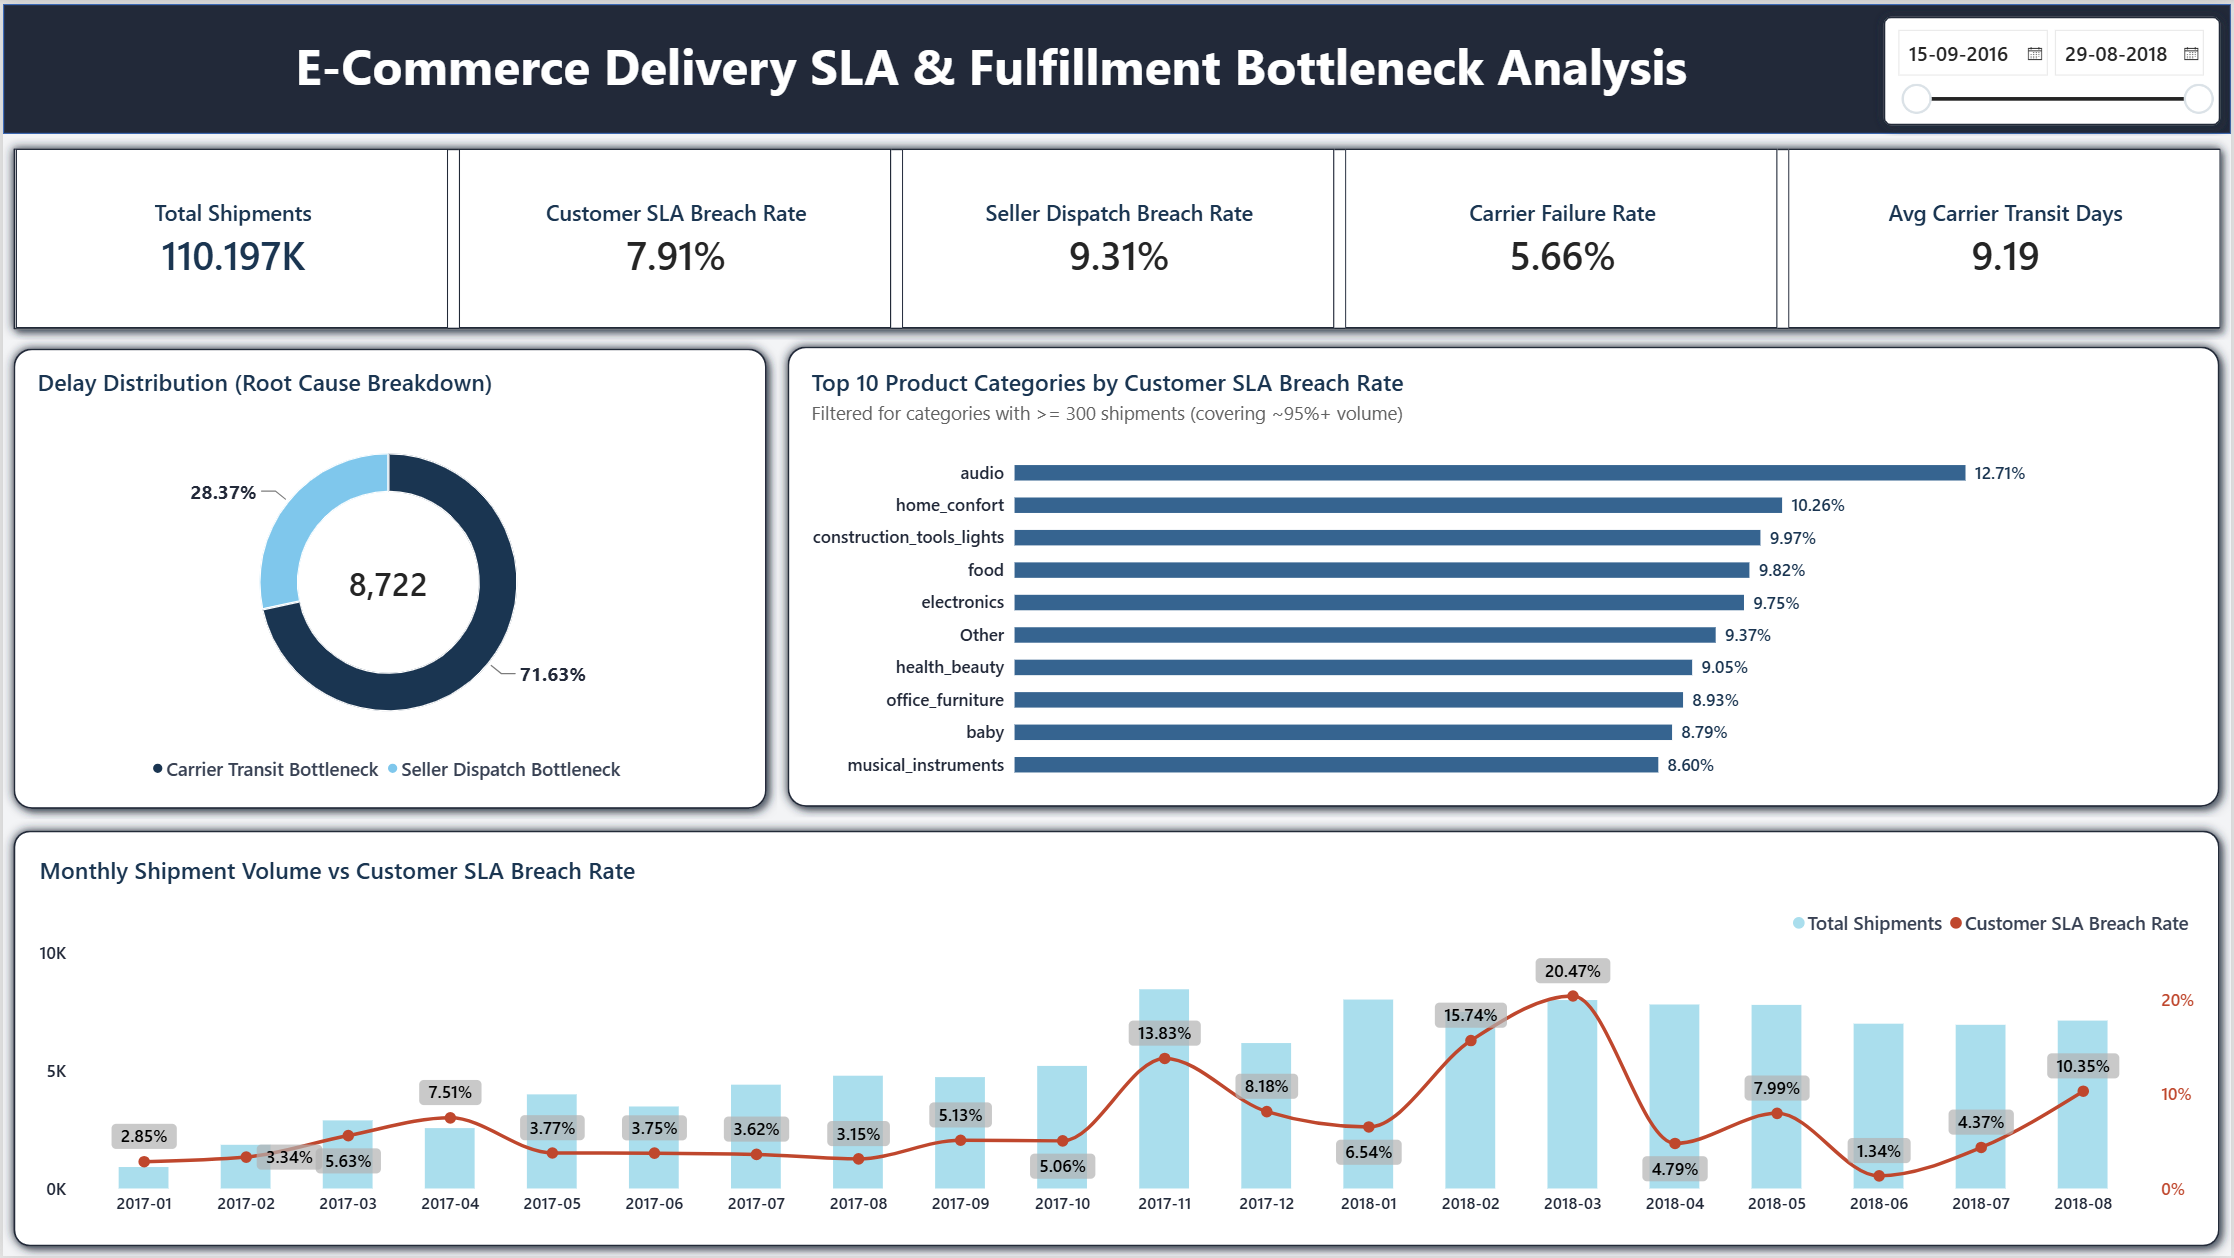

Layout of this report page (visuals, bound fields, positions):
{"tool":"powerbi","page":{"name":"Executive SLA Diagnostic","canvas":[1920,1080],"ordinal":0},"visuals":[{"type":"shape","box":[667.4,286.9,1252.6,415],"z":0},{"type":"shape","box":[0,703.7,1920,376.7],"z":1000},{"type":"lineClusteredColumnComboChart","title":"Monthly Shipment Volume vs Customer SLA Breach Rate","fields":{"Category":["supply_chain delivery_sla_analysis.Year_month"],"Y":["_Measures.Total Shipments"],"Y2":["_Measures.Customer SLA Breach Rate"]},"box":[15.3,719,1890,346.1],"z":2000},{"type":"shape","box":[0,114.7,1920,174],"z":3000},{"type":"cardVisual","fields":{"Data":["_Measures.Total Shipments","_Measures.Customer SLA Breach Rate","_Measures.Seller Breach Rate","_Measures.Carrier Failure Rate","_Measures.Avg Carrier Transit Days"]},"box":[9.6,124.3,1903,156.8],"z":4000},{"type":"shape","box":[0,0,1920.7,112.1],"z":5000},{"type":"shape","box":[1612.1,1.7,308.6,112.1],"z":6000},{"type":"shape","box":[0,288.8,667.4,415],"z":7000},{"type":"donutChart","title":"Delay Distribution (Root Cause Breakdown)","fields":{"Category":["supply_chain delivery_sla_analysis.delay_distribution"],"Y":["_Measures.Total Shipments"]},"box":[13.4,298.3,636.8,392],"z":8000},{"type":"clusteredBarChart","title":"Top 10 Product Categories by Customer SLA Breach Rate","fields":{"Category":["supply_chain delivery_sla_analysis.product_category"],"Y":["_Measures.Customer SLA Breach Rate"]},"box":[680.8,298.3,1239.2,392],"z":9000},{"type":"textbox","box":[0,24.9,1703.9,82.2],"z":10000},{"type":"slicer","fields":{"Values":["supply_chain delivery_sla_analysis.purchase_timestamp"]},"box":[1625.9,17.2,282.8,94.8],"z":11000}]}

Visuals, with their boxes in screenshot pixels (x1, y1, x2, y2), scaled from the page's 1920x1080 canvas onto the 2234x1258 screenshot:
shape: (777,334,2233,818)
shape: (0,820,2233,1257)
"Monthly Shipment Volume vs Customer SLA Breach Rate" lineClusteredColumnComboChart: (18,838,2217,1241)
shape: (0,134,2233,336)
cardVisual - _Measures.Total Shipments x _Measures.Customer SLA Breach Rate: (11,145,2225,327)
shape: (0,0,2233,131)
shape: (1876,2,2233,133)
shape: (0,336,777,820)
"Delay Distribution (Root Cause Breakdown)" donutChart: (16,347,757,804)
"Top 10 Product Categories by Customer SLA Breach Rate" clusteredBarChart: (792,347,2233,804)
textbox: (0,29,1983,125)
slicer - supply_chain delivery_sla_analysis.purchase_timestamp: (1892,20,2221,130)
